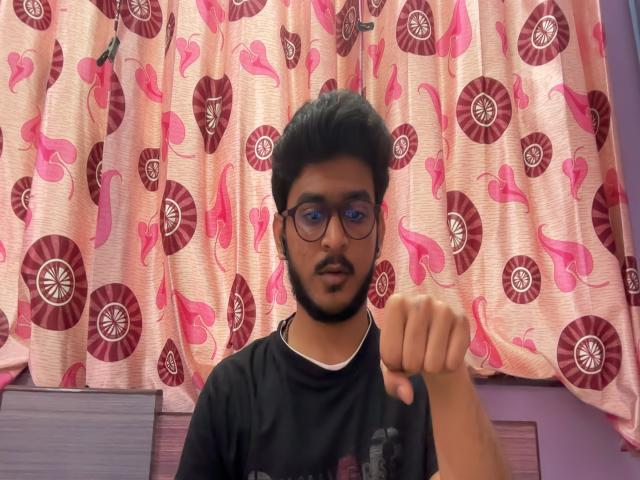Yes: (377, 280, 484, 414)
